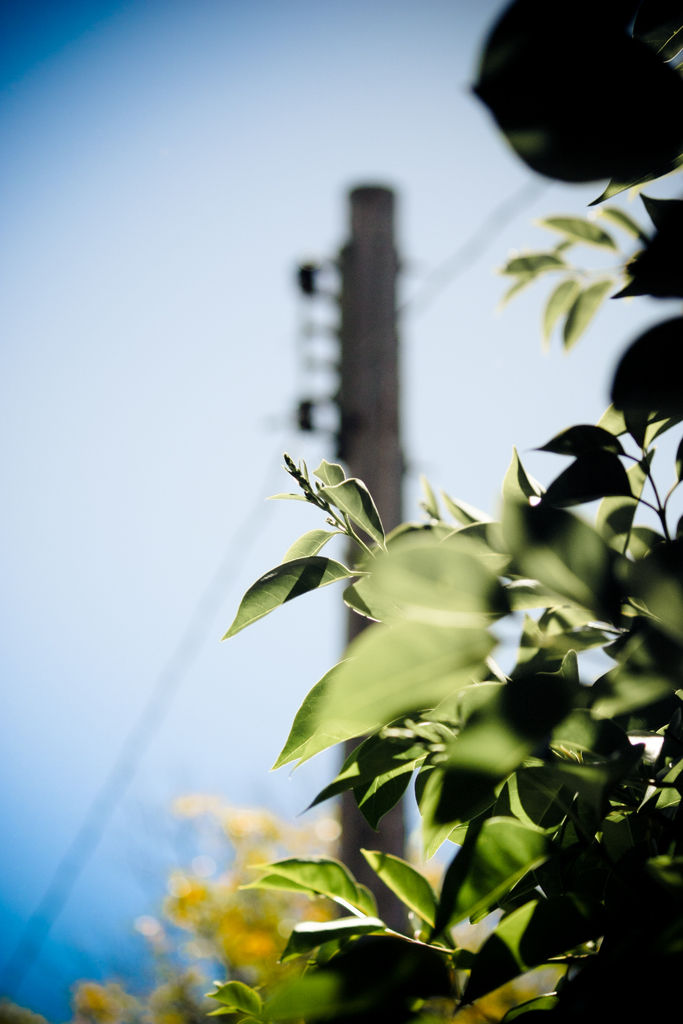Tree: (217, 0, 682, 1023)
